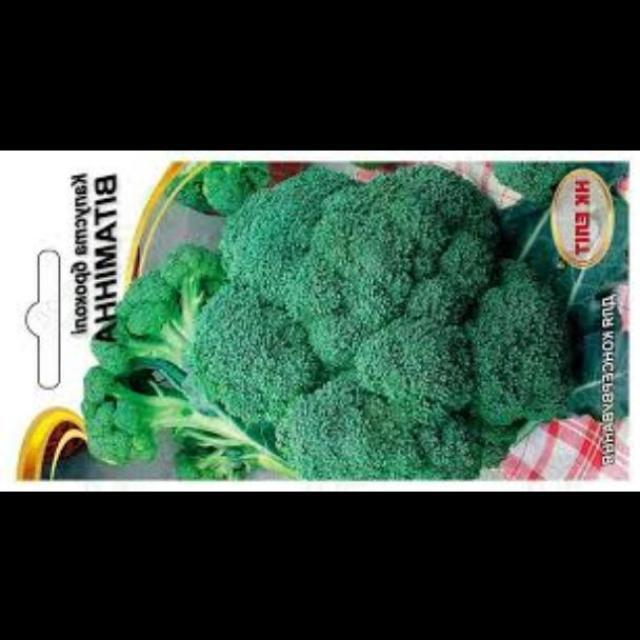Broccoli: (178, 174, 561, 456), (75, 268, 230, 481)
